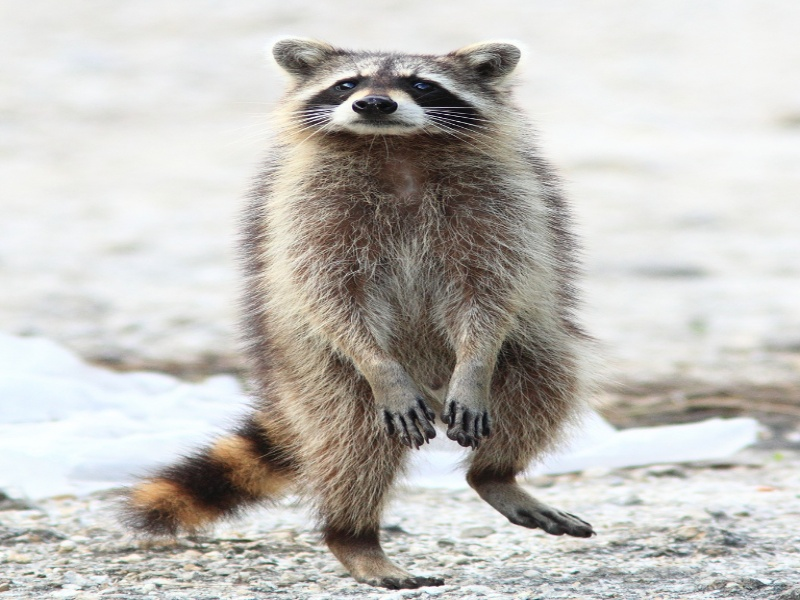raccoon: (115, 37, 602, 588)
